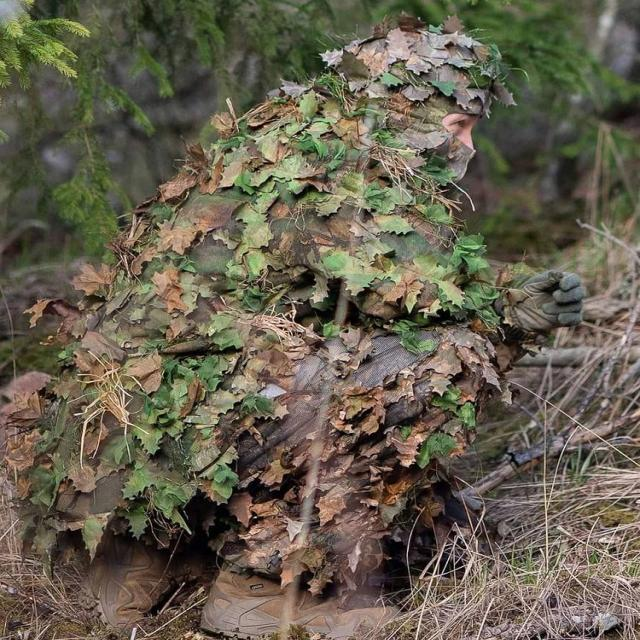Human: (32, 12, 586, 640)
